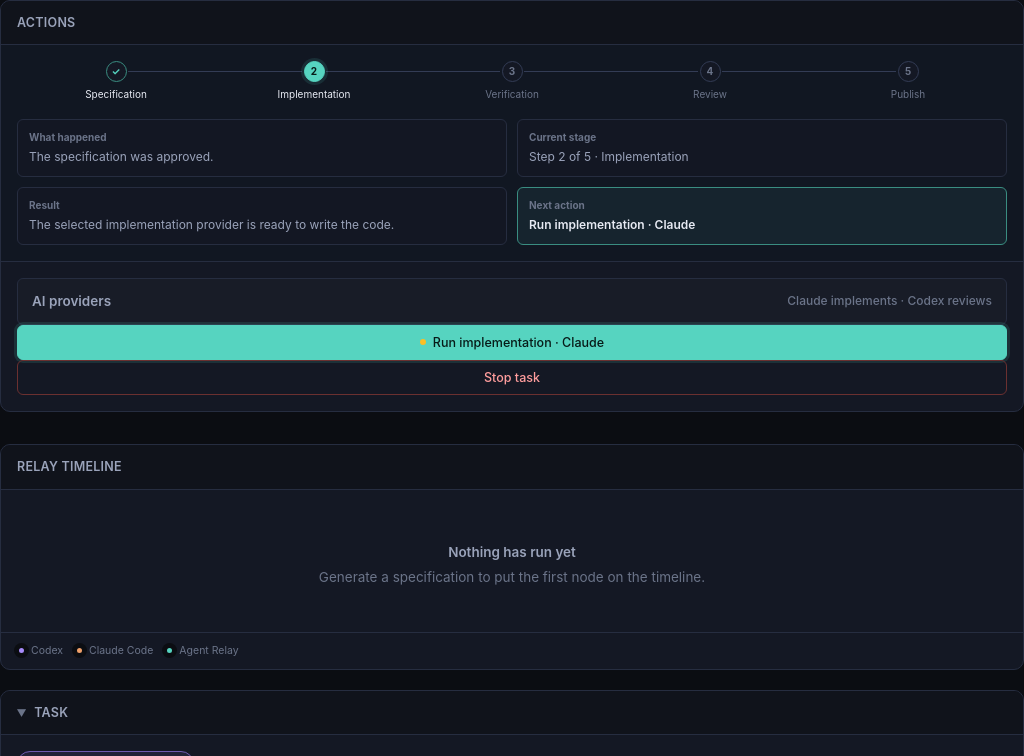
Test case: Run screen — Stop task outcomes › never reports a Stop that succeeded as a failed one because the read-back afterwards failed
Step 1. Click the button "Stop task" → (512, 378), box [17,360,1007,395]
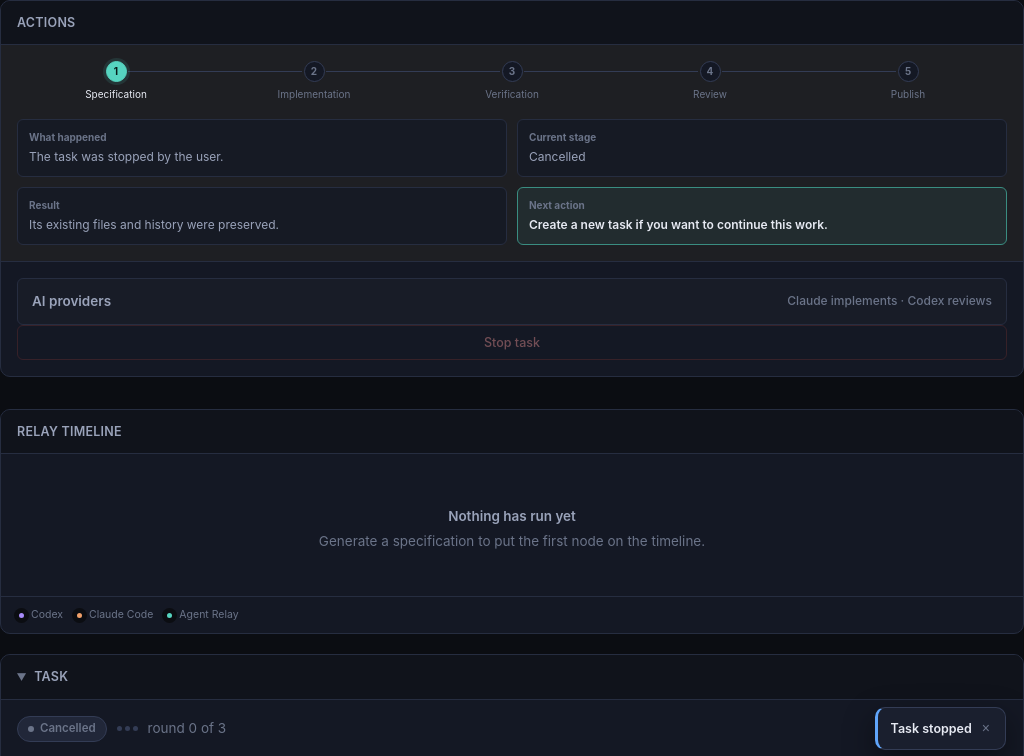
Check: the text "Task stopped" is shown, box [891,721,972,736]
